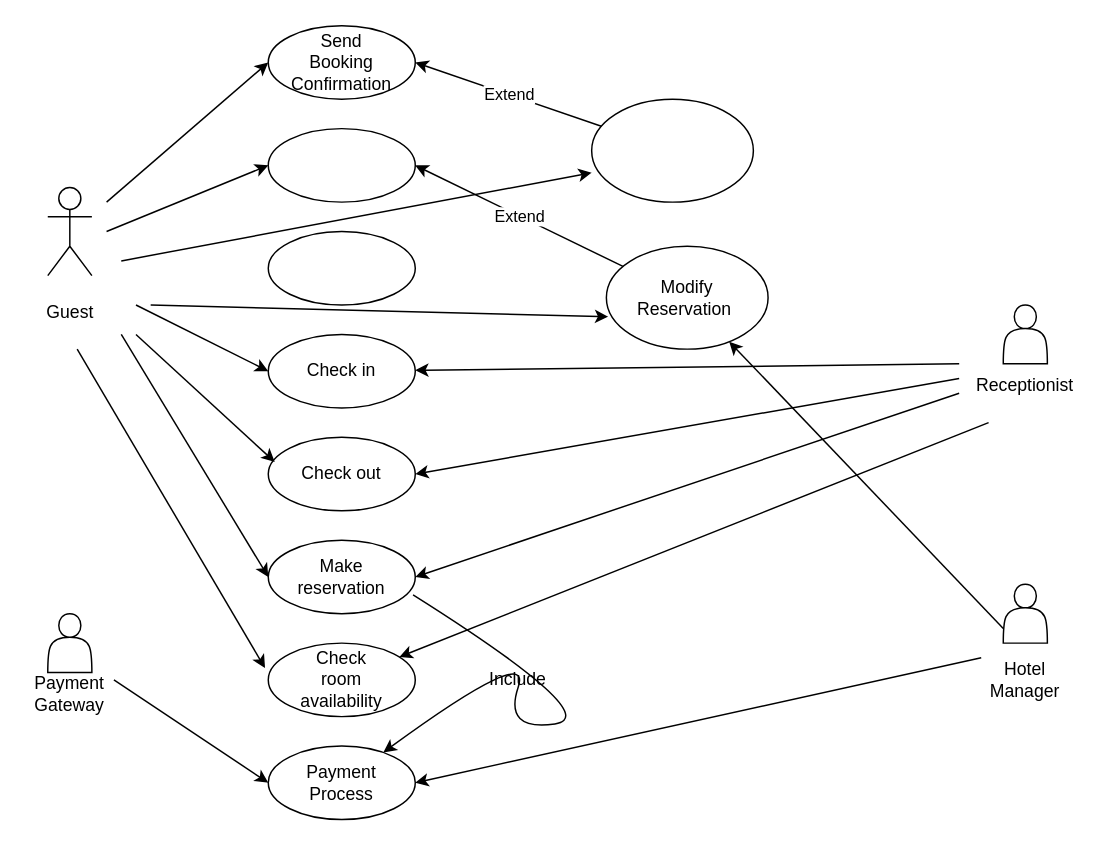
Some shapes in this 1098 by 845 pixel diagram are drawn without their labels. Each missing label, with the centre of its shape:
"Actor" goes at [69,231].
"Cancel Reservation" goes at [671,150].
"Search for Hotels" goes at [341,164].
"View hotel details" goes at [341,267].
